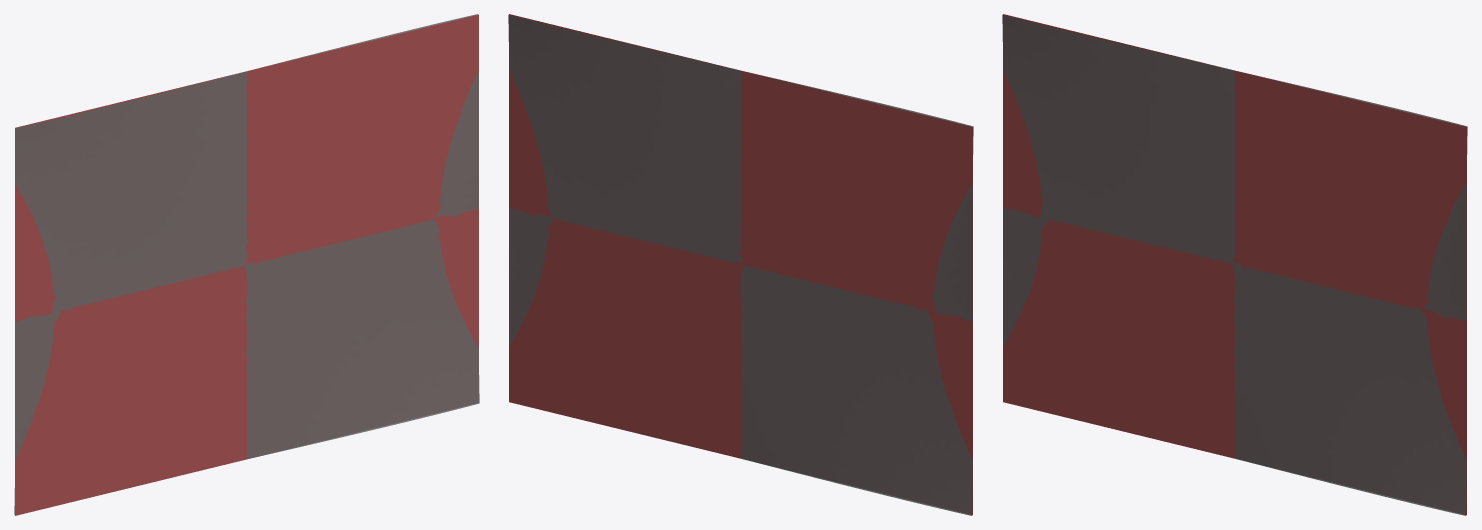
Rendered from warping-rectangle-80-100-1342.glb.
The picture shows the model from 3 angles, left to right: view 1: azimuth 30°, elevation 25°; view 2: azimuth 150°, elevation 25°; view 3: azimuth 330°, elevation 25°; orthographic projection.
Visible parts, largest first — view 1: undeformed cross-section, cross-section with warping; view 2: undeformed cross-section, cross-section with warping; view 3: undeformed cross-section, cross-section with warping.
Boxes of the visible parts, x1,y1,x2,y2 form: undeformed cross-section: (15,14,478,515); cross-section with warping: (14,14,479,515); undeformed cross-section: (509,14,972,515); cross-section with warping: (508,14,973,515); undeformed cross-section: (1003,14,1466,515); cross-section with warping: (1002,14,1467,515).
Bounding box in the file's own units: 0.1 × 0.08 × 0.00109.
